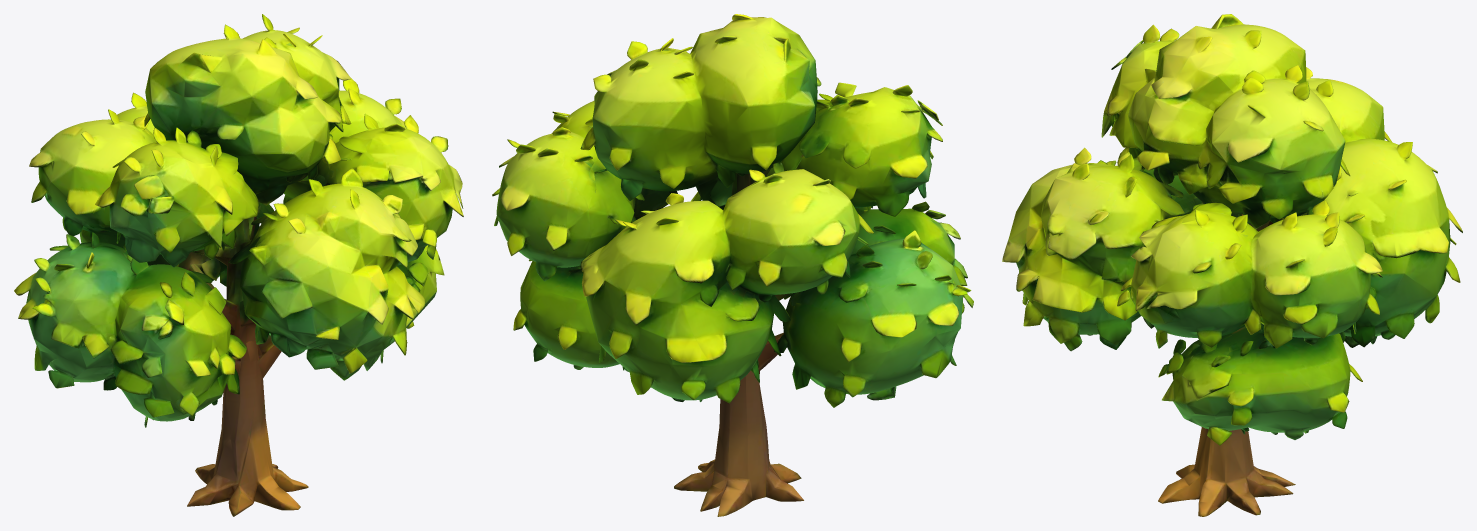
The model's file is tree.glb.
The picture shows the model from 3 angles, left to right: view 1: azimuth 30°, elevation 25°; view 2: azimuth 150°, elevation 25°; view 3: azimuth 270°, elevation 25°; orthographic projection. The views are drawn at different scales.
Visible parts, largest first — view 1: node_0; view 2: node_0; view 3: node_0.
Boxes of the visible parts, x1,y1,x2,y2 form: node_0: (14,14,463,516); node_0: (492,14,973,516); node_0: (1002,14,1462,516).
Bounding box in the file's own units: 1.11 × 1.14 × 1.04.
Materials: 1 (1 with a texture image).
